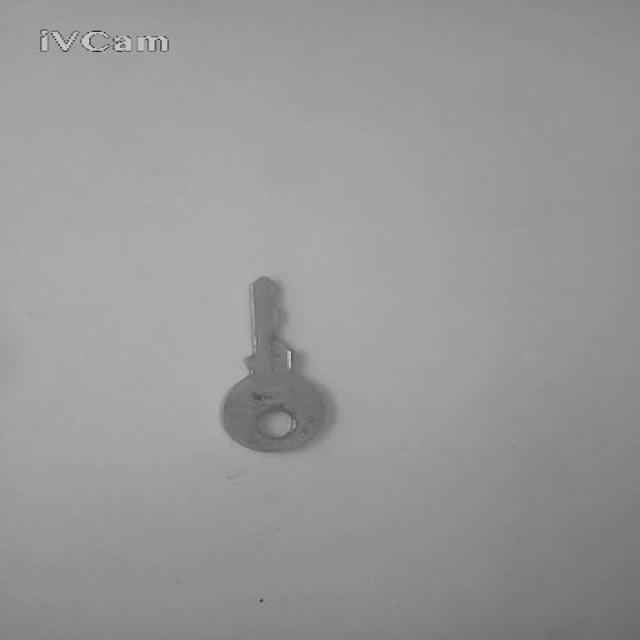key: (224, 277, 325, 451)
